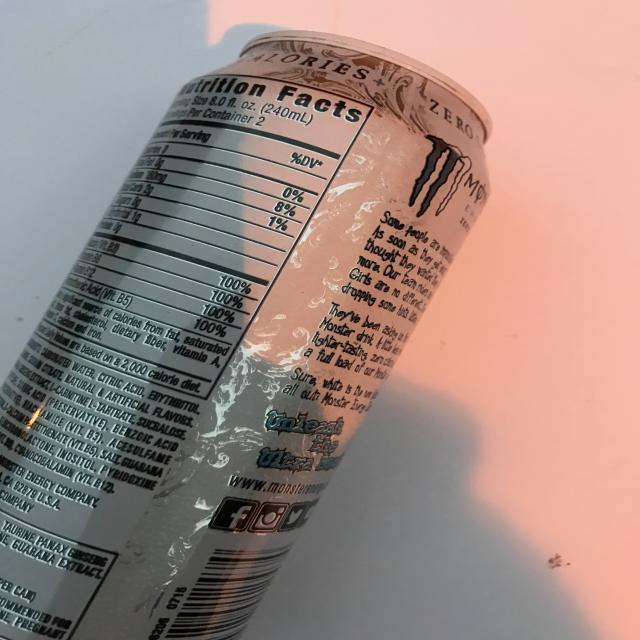metal: (2, 29, 497, 640)
